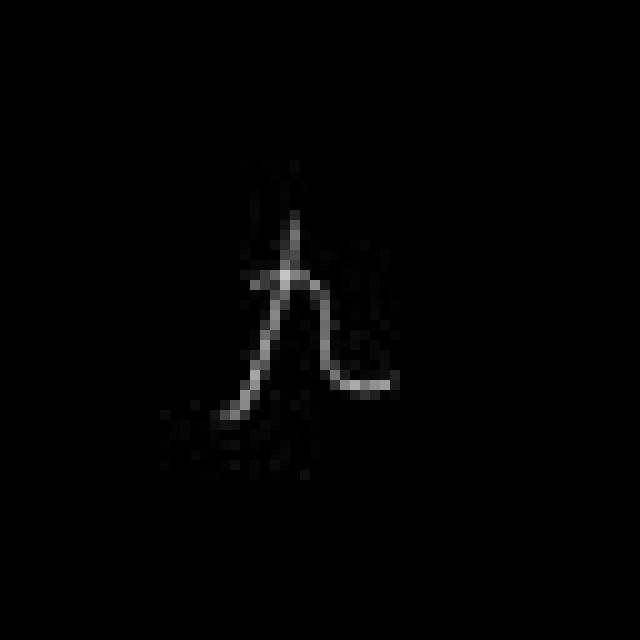9 -nine-: (220, 215, 396, 432)
